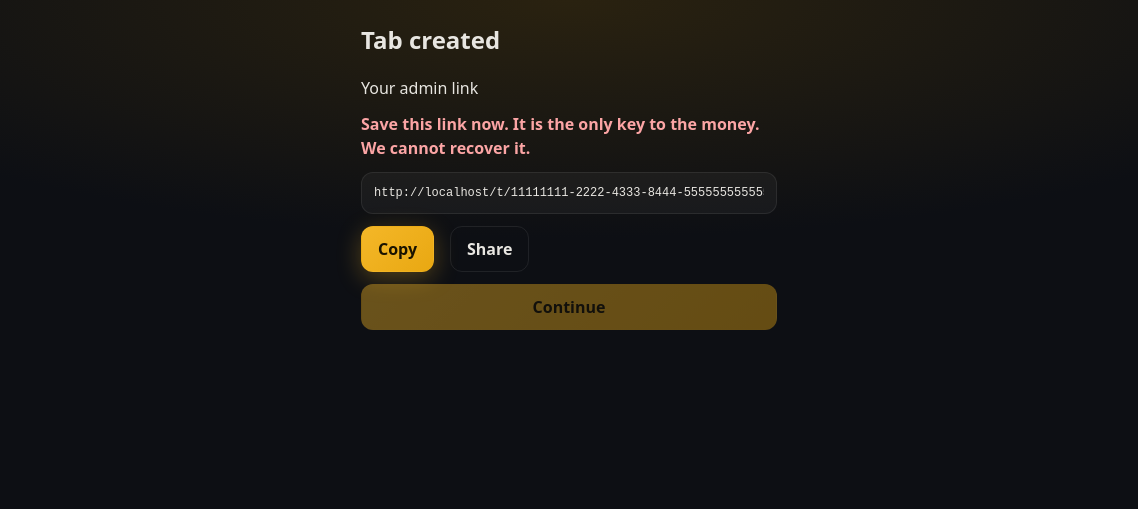
Test: Links › Continue is disabled until Copy is clicked, then reveals participant links
Expected: the text "Save this link now. It is the only key to the money. We cannot recover it." is shown, x1=361 y1=112 x2=777 y2=160
Expected: the button "Continue" is disabled, x1=361 y1=284 x2=777 y2=330
Click the button "Copy": click(398, 249) x1=361 y1=226 x2=434 y2=272
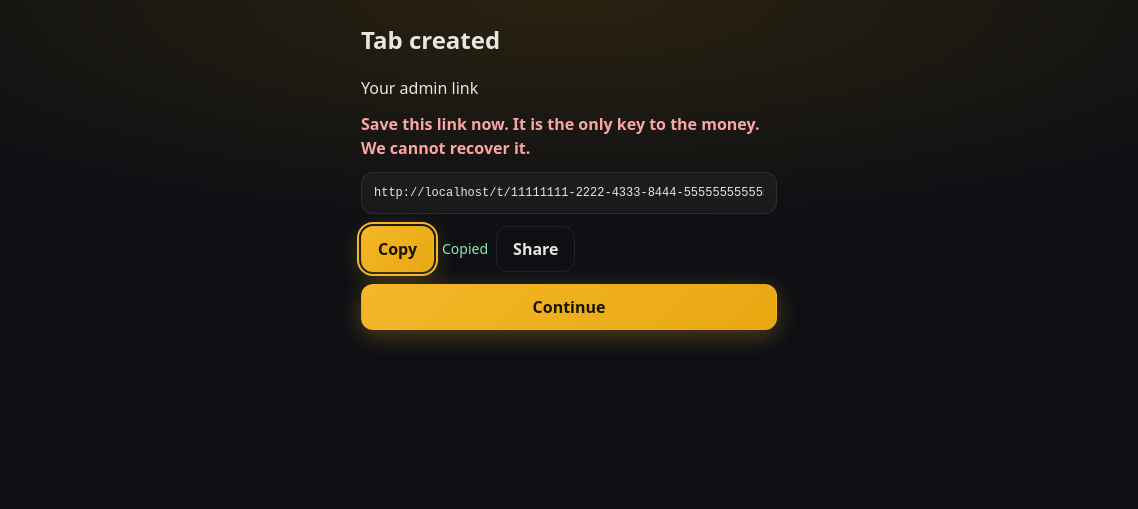
Now the text "Copied" is shown, box x1=442 y1=239 x2=488 y2=259
Click the button "Continue": click(569, 307) x1=361 y1=284 x2=777 y2=330
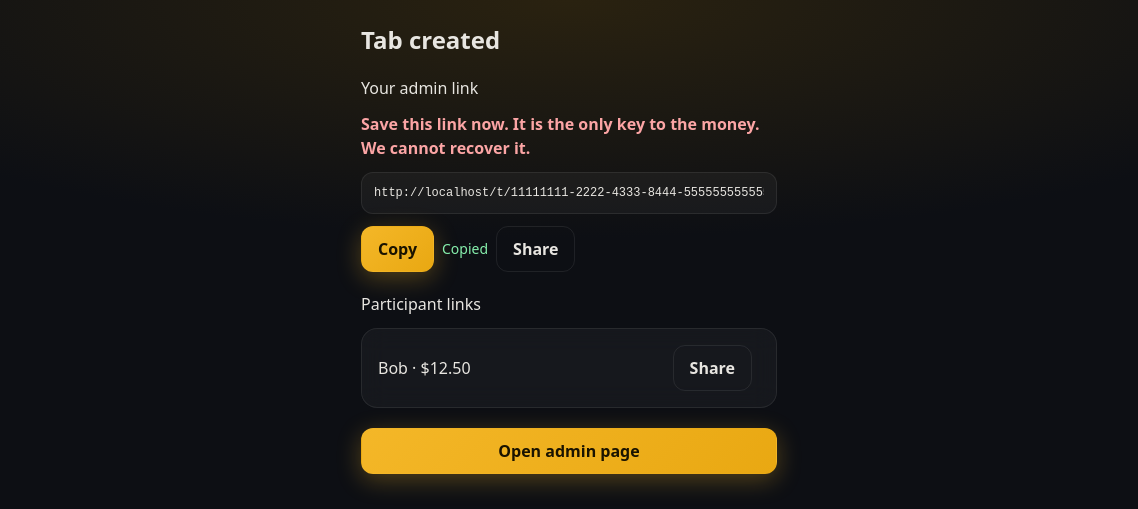
Now the heading "Participant links" is shown, box x1=361 y1=293 x2=481 y2=315
